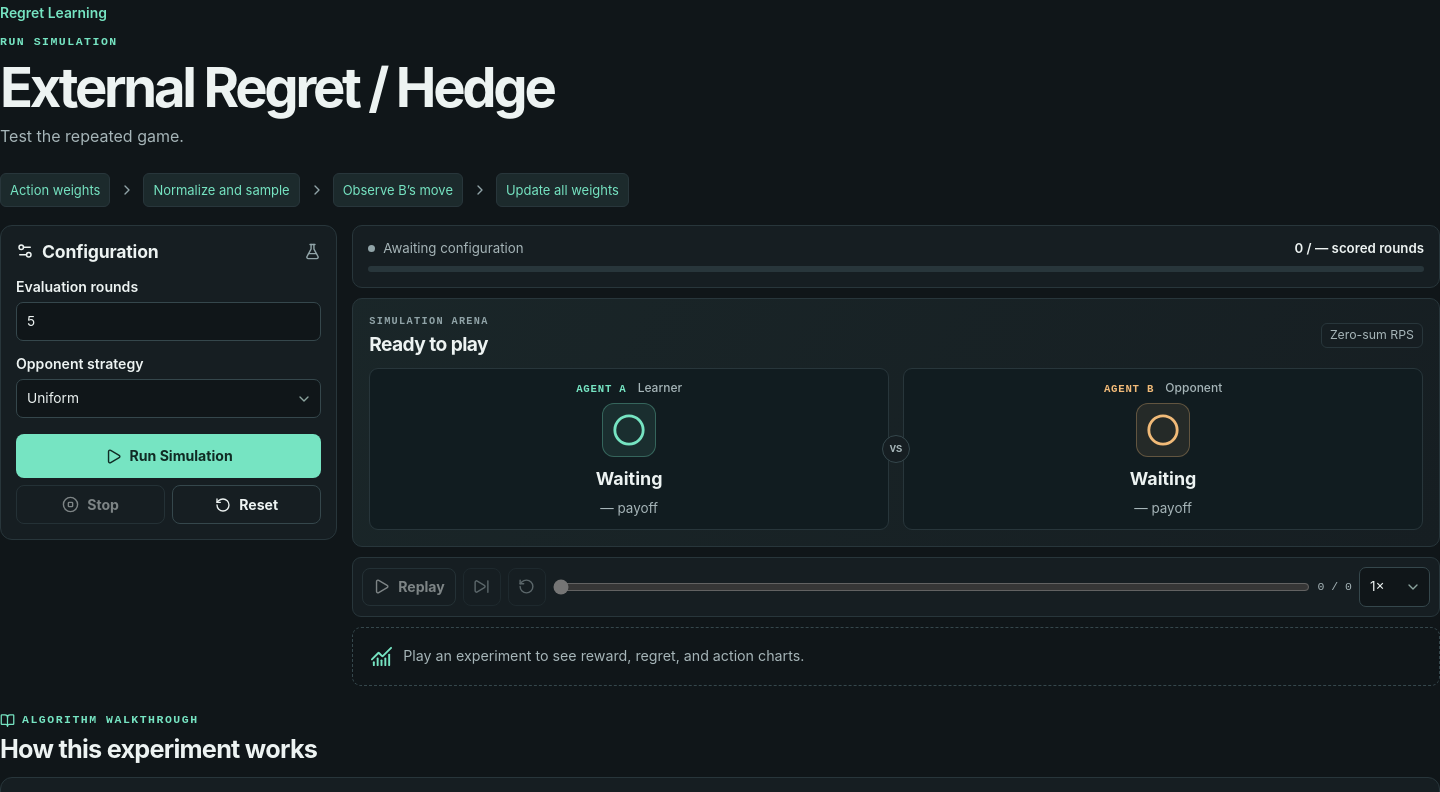
Test: live runner › displays a failed run request and leaves the controls usable
Click the button "Run Simulation" at (169, 456), box [16,434,321,478]
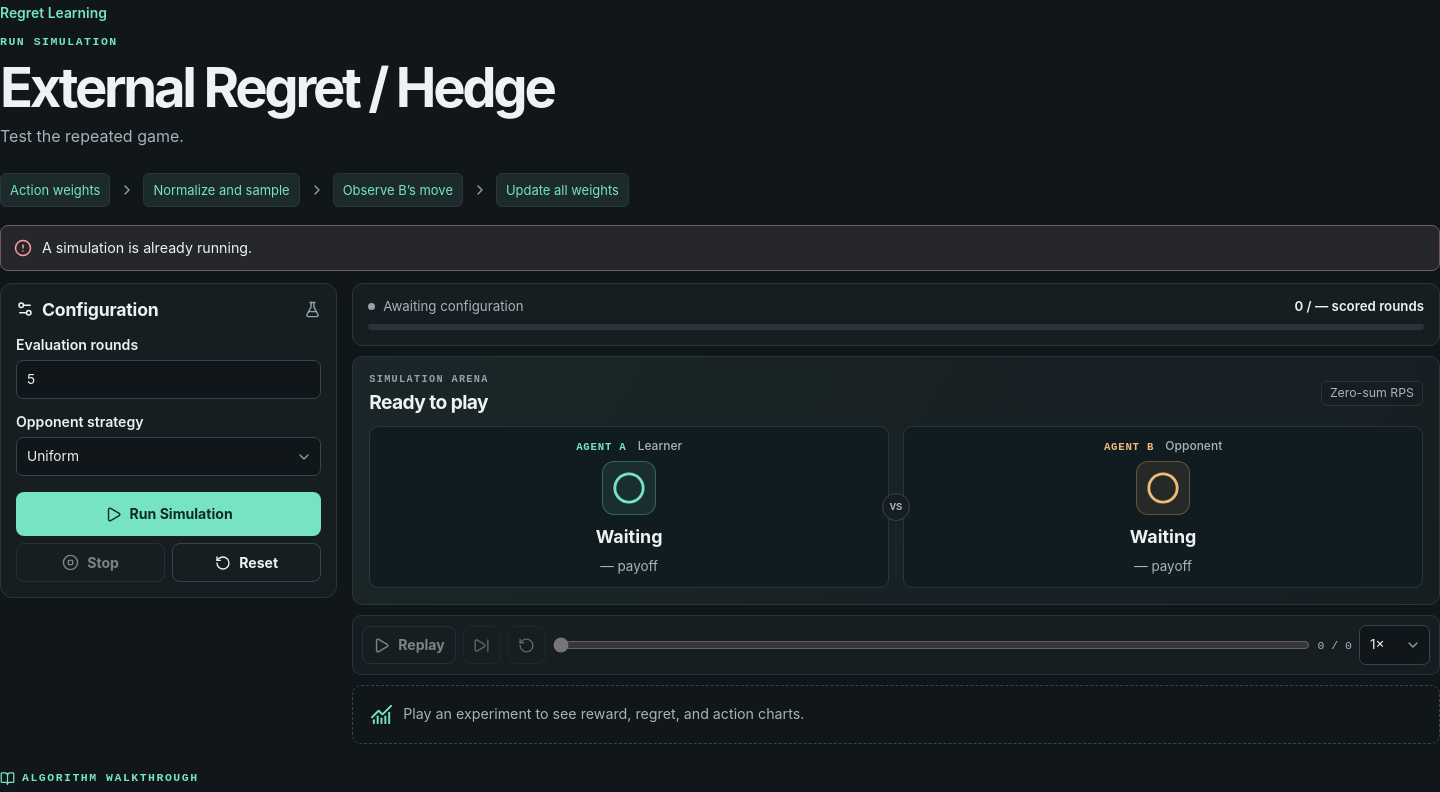
Expected: the button "Run Simulation" is enabled, [16,492,321,536]
Now the message shows "already running", box [42,239,252,256]
